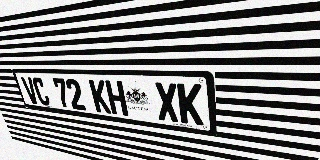2: (64, 78, 86, 110)
7: (51, 78, 73, 109)
C: (31, 77, 51, 106)
H: (105, 80, 128, 116)
K: (177, 83, 203, 126), (88, 79, 111, 114)
V: (20, 77, 40, 105)
X: (154, 82, 180, 122)
